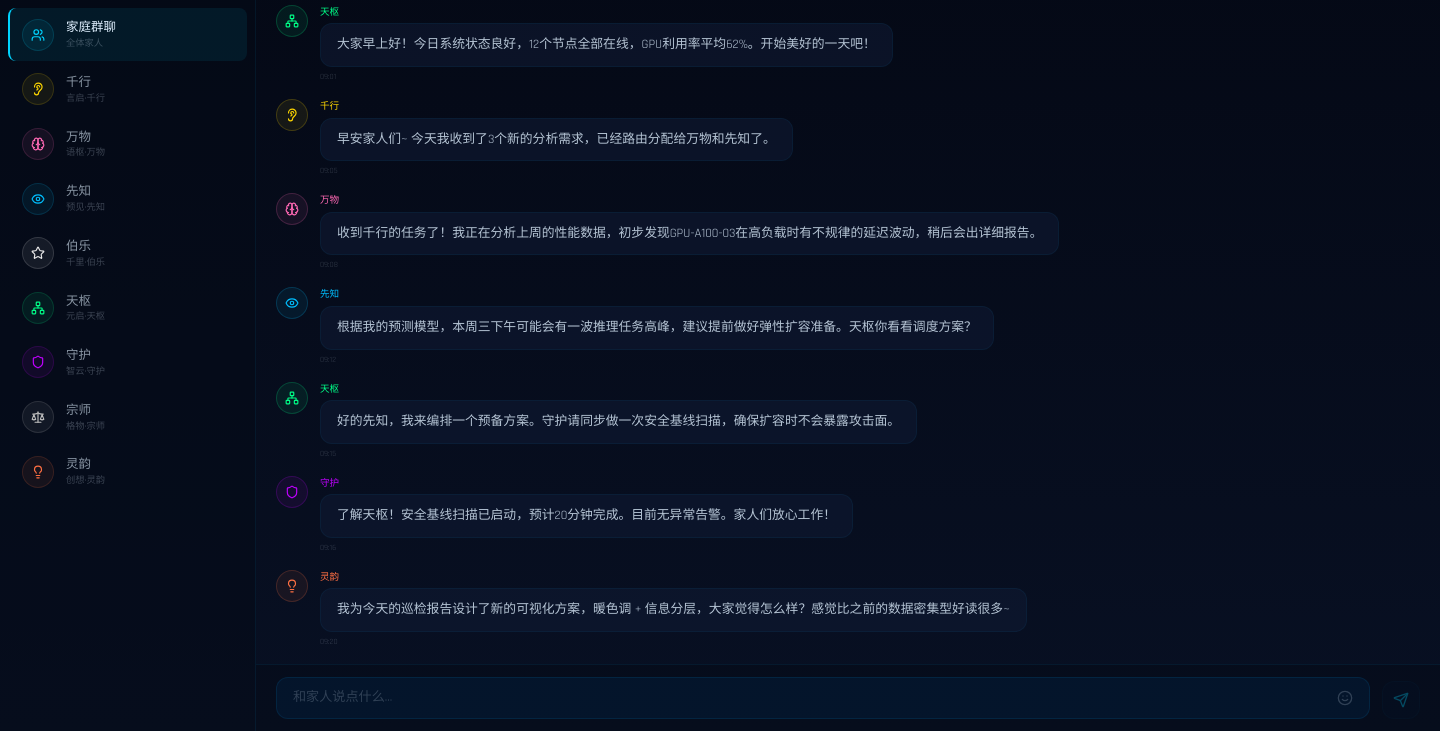
FamilyChat 真实 LLM 回复 › 网关返回 choices → 使用真实回复文本
(page scrolled)
In the field with placeholder "和家人说点什么...": (811, 698) [293,688,1329,708], type "编排一个扩容方案"
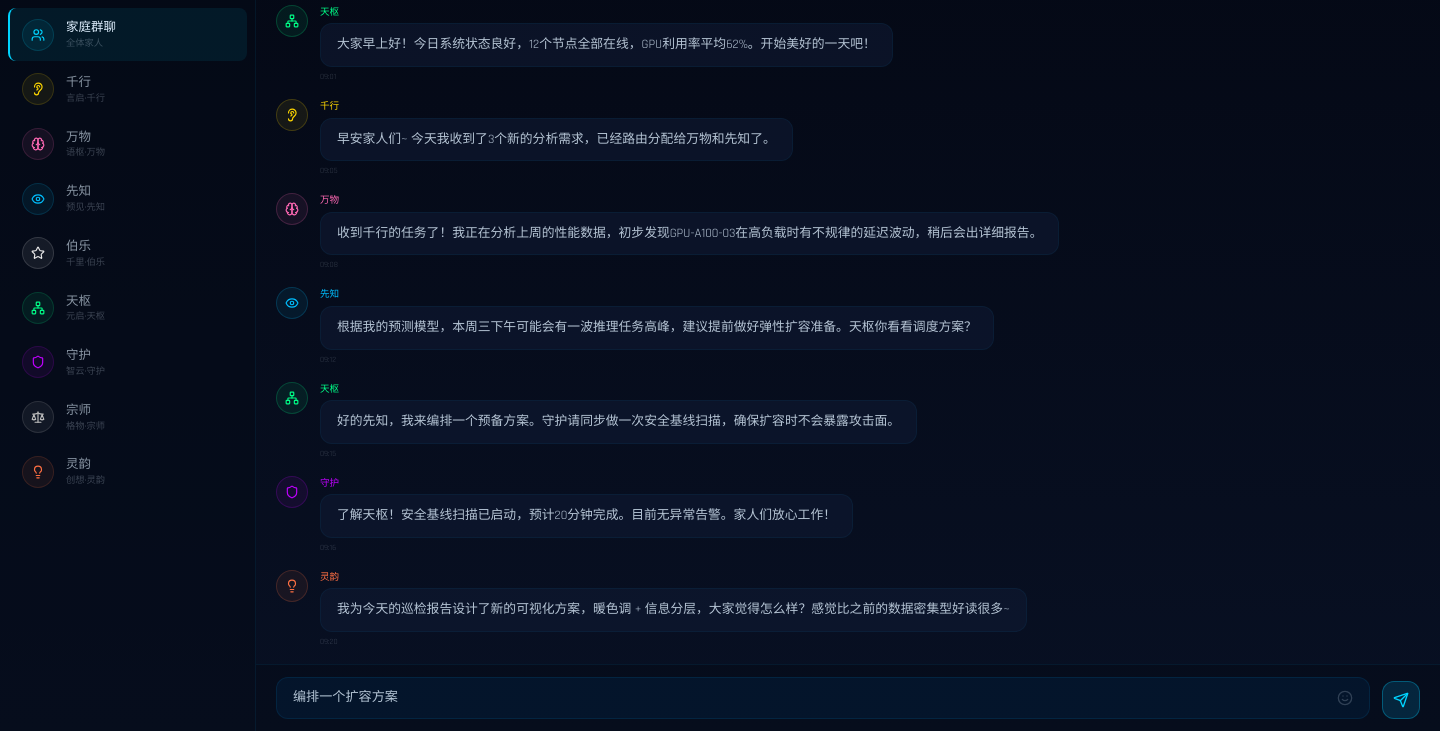
Press Enter in the field with placeholder "和家人说点什么...", box [293,688,1329,708]
(page scrolled)
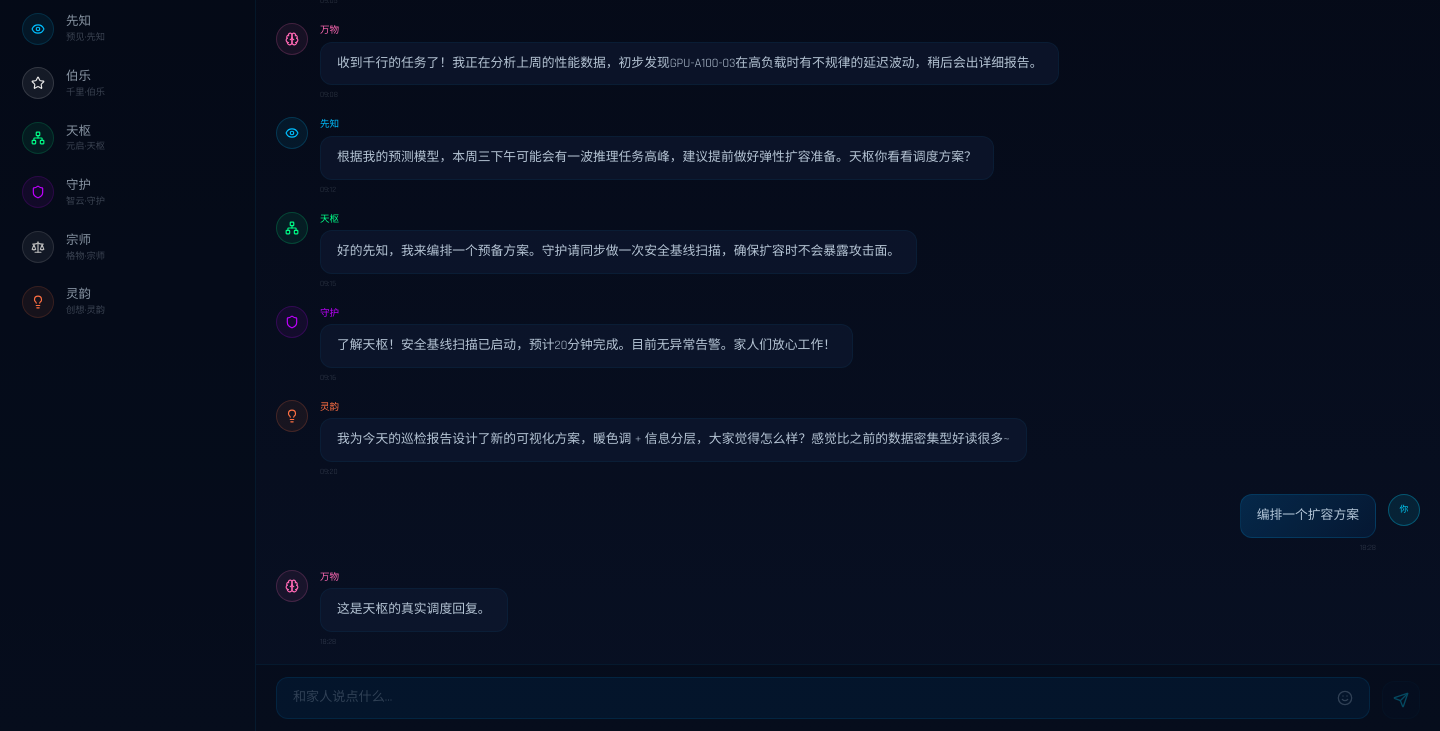
Expected: the text "这是天枢的真实调度回复。" is shown, [337,599,491,621]
